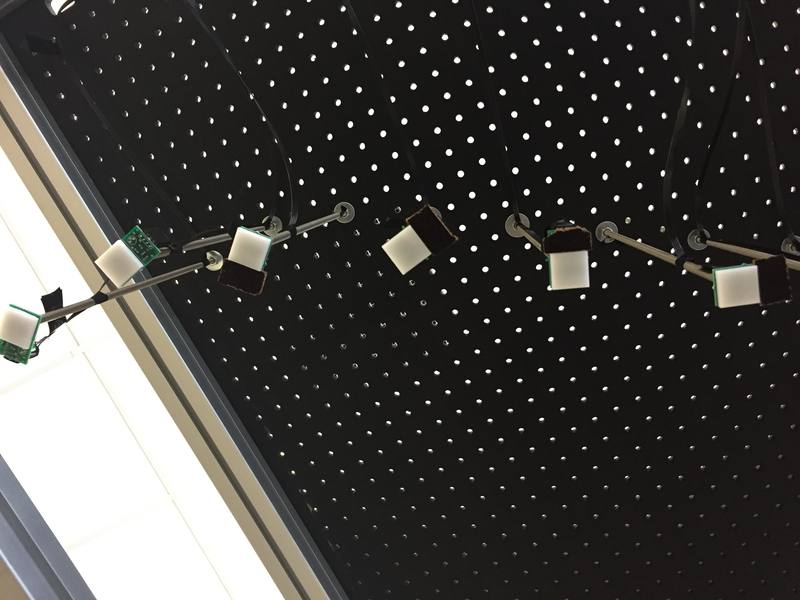target: (381, 226, 432, 277), (94, 239, 143, 289), (710, 266, 760, 310), (223, 226, 270, 272), (546, 251, 592, 291), (1, 308, 39, 351)
